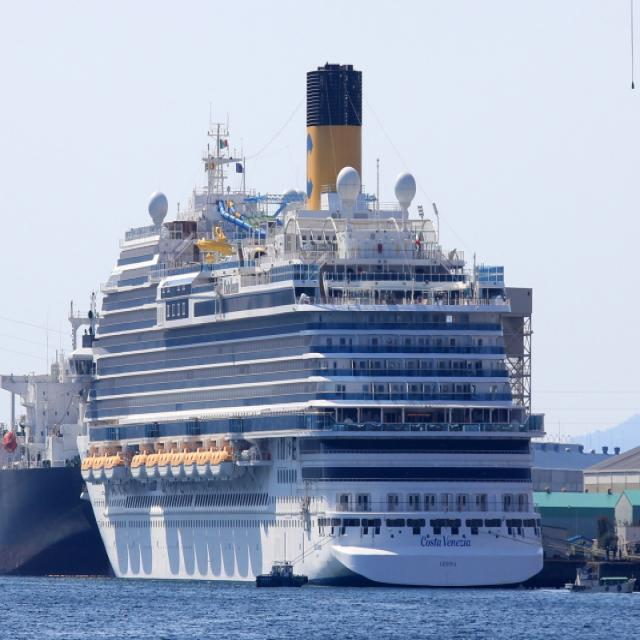cruises: (77, 63, 556, 587)
